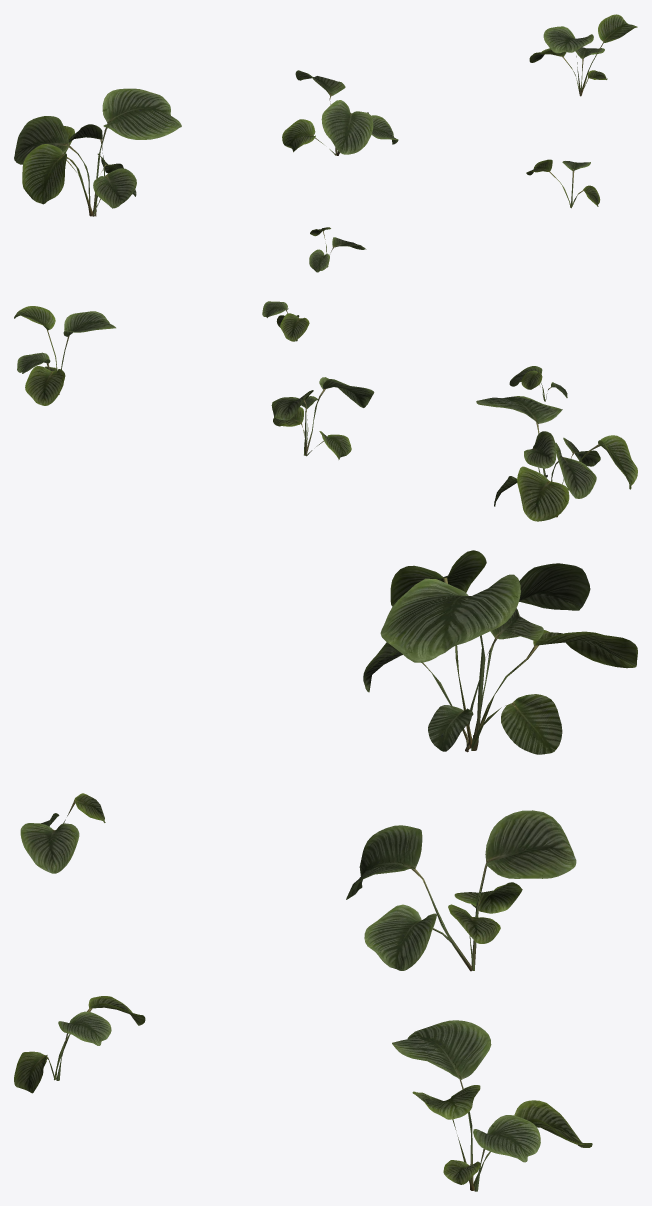
Rendered from calathea_orbifolia_01.a8a48e97.glb.
3 views of the same model, one above another, from view 1: azimuth 30°, elevation 25°; view 2: azimuth 150°, elevation 25°; view 3: azimuth 270°, elevation 25° (orthographic). The views are drawn at different scales.
Parts seen in each view (by area): view 1: calathea_orbifolia_01_a, calathea_orbifolia_01_b, calathea_orbifolia_01_c, calathea_orbifolia_01_e, calathea_orbifolia_01_d; view 2: calathea_orbifolia_01_a, calathea_orbifolia_01_c, calathea_orbifolia_01_b, calathea_orbifolia_01_e, calathea_orbifolia_01_d; view 3: calathea_orbifolia_01_a, calathea_orbifolia_01_b, calathea_orbifolia_01_c, calathea_orbifolia_01_e, calathea_orbifolia_01_d.
Part boxes in pixels (x1=…): calathea_orbifolia_01_a: x1=14, y1=88, x2=181, y2=216; calathea_orbifolia_01_b: x1=282, y1=70, x2=398, y2=155; calathea_orbifolia_01_c: x1=529, y1=14, x2=637, y2=96; calathea_orbifolia_01_e: x1=526, y1=159, x2=600, y2=208; calathea_orbifolia_01_d: x1=309, y1=227, x2=366, y2=272; calathea_orbifolia_01_a: x1=476, y1=396, x2=637, y2=521; calathea_orbifolia_01_c: x1=14, y1=306, x2=115, y2=405; calathea_orbifolia_01_b: x1=271, y1=377, x2=374, y2=459; calathea_orbifolia_01_e: x1=262, y1=301, x2=309, y2=341; calathea_orbifolia_01_d: x1=509, y1=366, x2=567, y2=401; calathea_orbifolia_01_a: x1=363, y1=550, x2=637, y2=754; calathea_orbifolia_01_b: x1=346, y1=810, x2=576, y2=971; calathea_orbifolia_01_c: x1=392, y1=1020, x2=592, y2=1191; calathea_orbifolia_01_e: x1=14, y1=996, x2=145, y2=1093; calathea_orbifolia_01_d: x1=20, y1=793, x2=105, y2=873.
Size of the model in its own units: 2.49 by 0.4243 by 1.19.
Materials: 1 (1 with a texture image).
